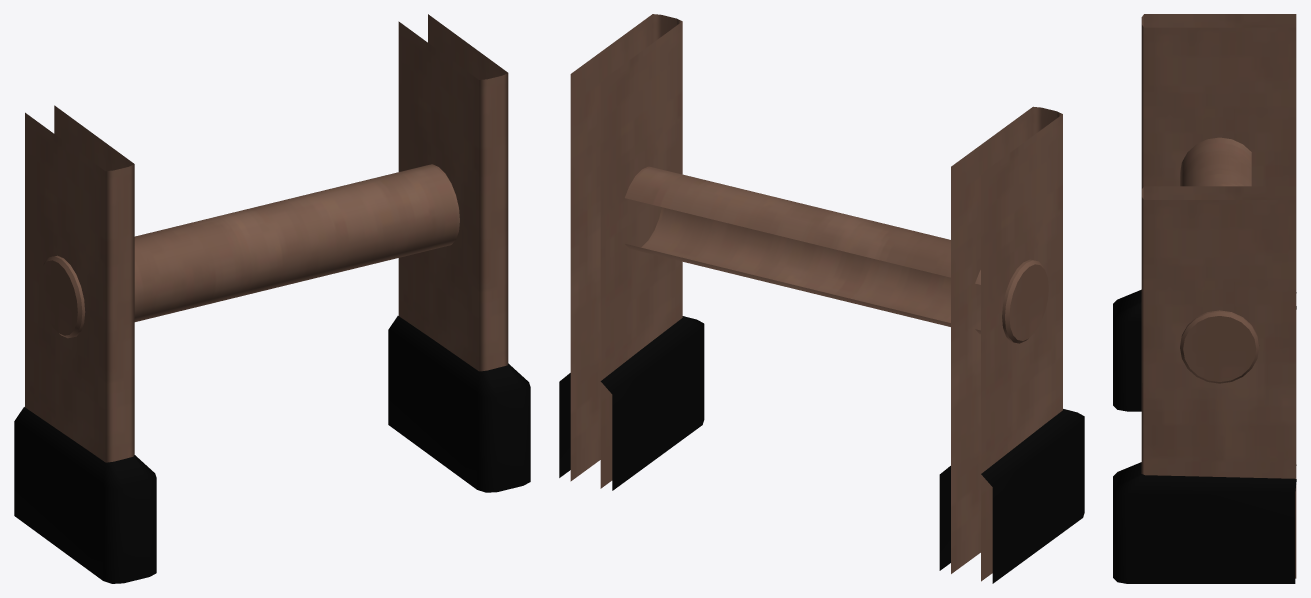
The model's file is Ladder.fbx.
3 views of the same model, side by side, from view 1: azimuth 30°, elevation 25°; view 2: azimuth 150°, elevation 25°; view 3: azimuth 270°, elevation 25° (orthographic). The views are drawn at different scales.
Parts seen in each view (by area): view 1: Ladder, Ladder_Base; view 2: Ladder, Ladder_Base; view 3: Ladder, Ladder_Base.
Boxes of the visible parts, box(x1,y1,x2,y2) form: Ladder: box(25, 14, 508, 462); Ladder_Base: box(14, 316, 530, 583); Ladder: box(570, 14, 1062, 581); Ladder_Base: box(559, 316, 1084, 583); Ladder: box(1141, 14, 1296, 578); Ladder_Base: box(1113, 289, 1296, 583).
Size of the model in its own units: 0.0111 by 0.01 by 0.0044.
